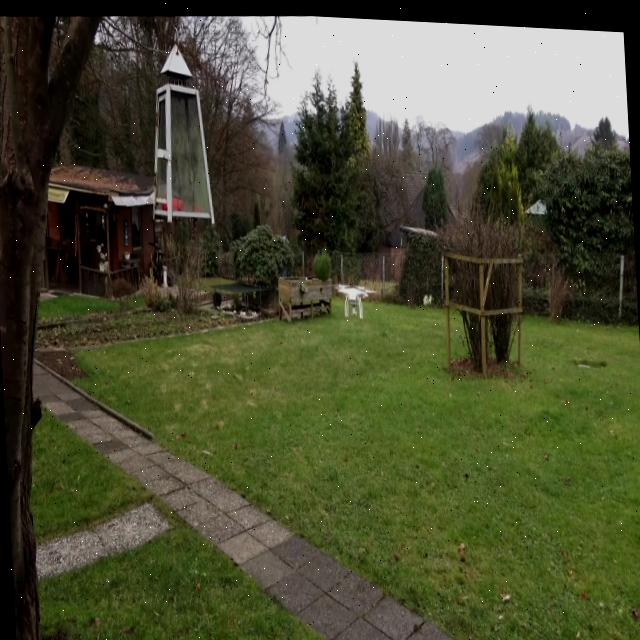drone: (336, 270, 373, 318)
